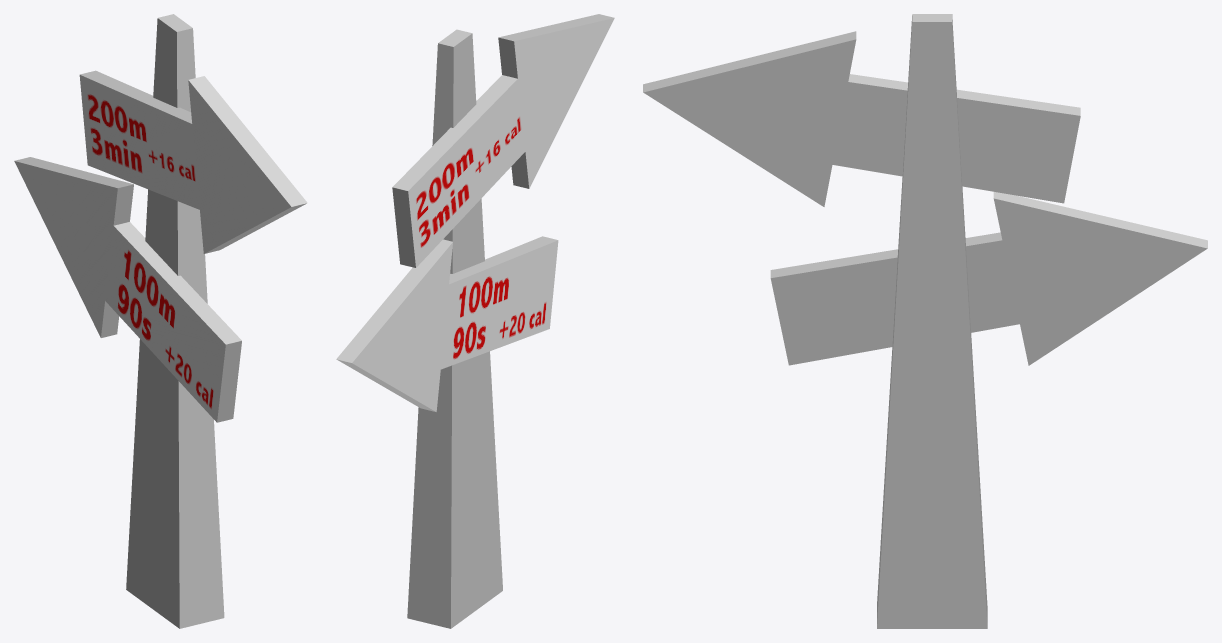
Rendered from Sign1.fbx.
The picture shows the model from 3 angles, left to right: view 1: azimuth 30°, elevation 25°; view 2: azimuth 150°, elevation 25°; view 3: azimuth 270°, elevation 25°; orthographic projection. The views are drawn at different scales.
Parts seen in each view (by area): view 1: pCube10; view 2: pCube10; view 3: pCube10.
Part boxes in pixels (x1,y1,x2,y2): pCube10: (14, 14, 307, 628); pCube10: (336, 14, 614, 628); pCube10: (643, 14, 1207, 628).
Size of the model in its own units: 1.12 by 12.4 by 10.58.
